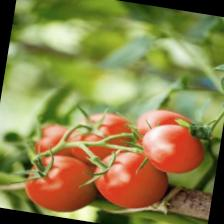tomato: (88, 142, 174, 213), (20, 148, 102, 218), (136, 118, 209, 178)
